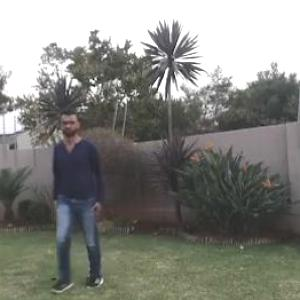follow: (53, 108, 100, 271)
